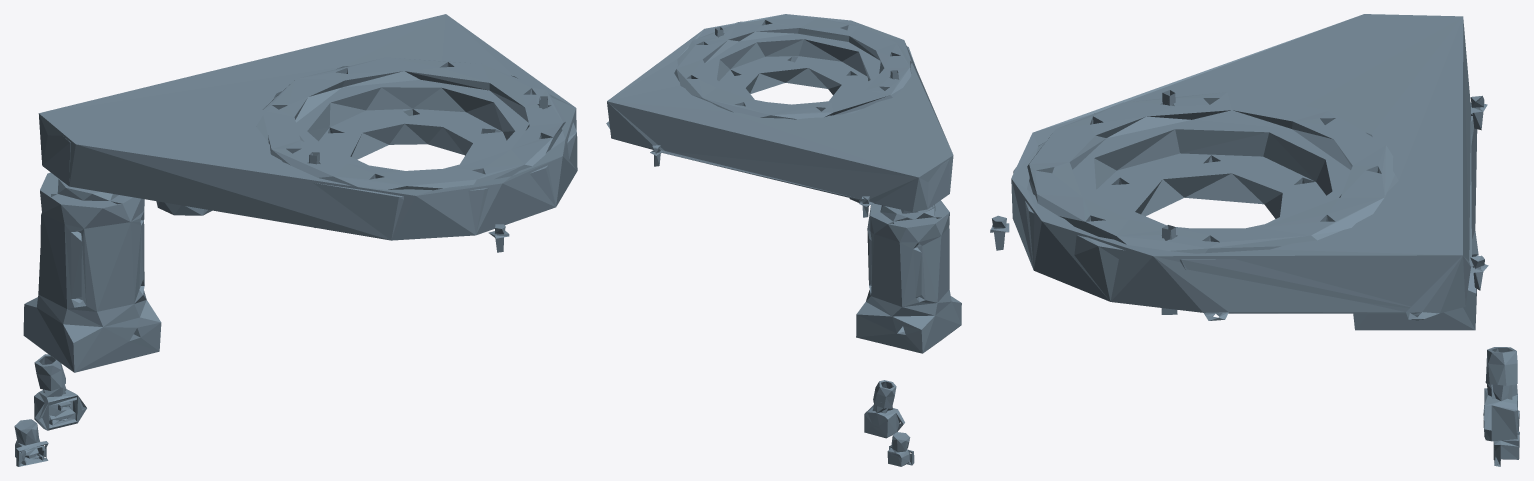
Rendered from susp_RR.dae.
3 views of the same model, side by side, from view 1: azimuth 30°, elevation 25°; view 2: azimuth 150°, elevation 25°; view 3: azimuth 270°, elevation 25° (orthographic). The views are drawn at different scales.
Visible parts, largest first — view 1: node; view 2: node; view 3: node.
Part boxes in pixels (bbox=[...]): node: bbox=[14, 14, 577, 466]; node: bbox=[606, 14, 961, 466]; node: bbox=[990, 14, 1519, 466].
Size of the model in its own units: 0.2882 by 0.2512 by 0.2357.
